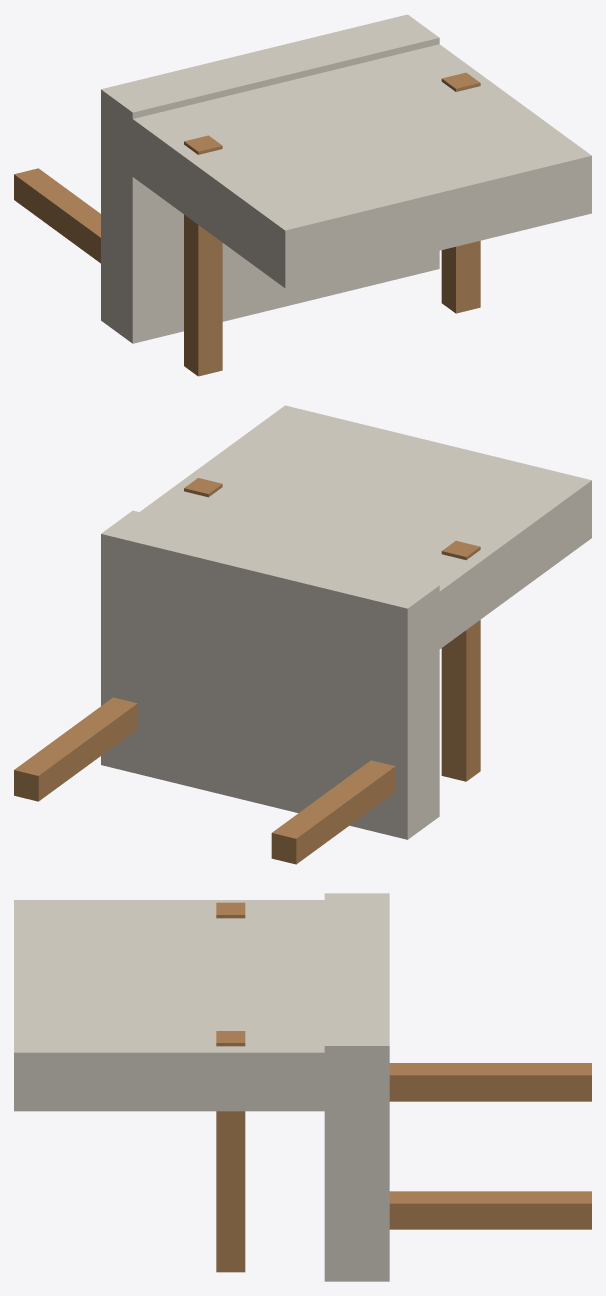
Rendered from relaxing-chairs.glb.
3 renders of one model, top to bottom at view 1: azimuth 30°, elevation 25°; view 2: azimuth 150°, elevation 25°; view 3: azimuth 270°, elevation 25°, orthographic.
Visible parts, largest first — view 1: Back, Seat, world, Arm; view 2: Seat, Back, world, Leg; view 3: Back, Seat, world, Leg, Arm.
Boxes of the visible parts, box(x1,y1,x2,y2) form: Back: box(109, 44, 591, 288); Seat: box(101, 14, 439, 343); world: box(14, 135, 222, 376); Arm: box(441, 72, 480, 313); Seat: box(101, 510, 439, 839); Back: box(140, 405, 591, 667); world: box(271, 540, 480, 864); Leg: box(14, 697, 137, 801); Back: box(14, 900, 375, 1111); Seat: box(324, 893, 389, 1281); world: box(216, 902, 591, 1101); Leg: box(389, 1191, 591, 1229); Arm: box(216, 1031, 245, 1272).
Bounding box in the file's own units: 1 × 0.72 × 1.6.
